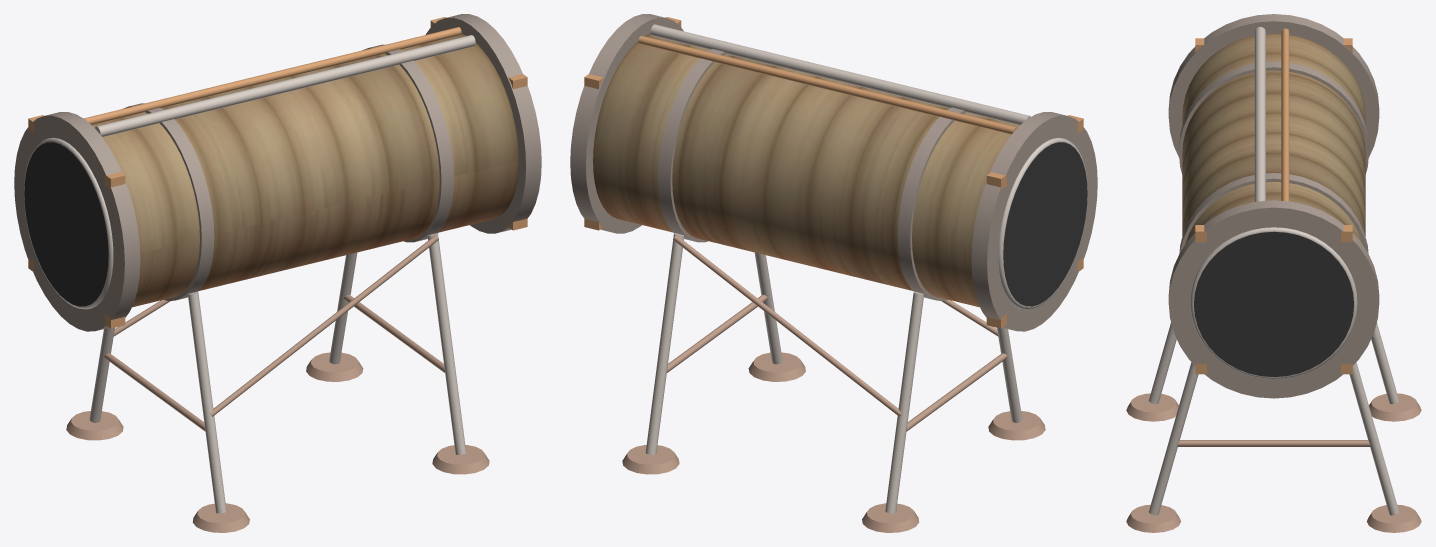
Rendered from W05_tunnel_straight.glb.
3 renders of one model, left to right at view 1: azimuth 30°, elevation 25°; view 2: azimuth 150°, elevation 25°; view 3: azimuth 270°, elevation 25°, orthographic. The views are drawn at different scales.
Visible parts, largest first — view 1: tube, docking_flange, opening, seal, footpad; view 2: tube, docking_flange, opening, seal, footpad; view 3: tube, docking_flange, opening, seal, footpad.
Boxes of the visible parts, x1,y1,x2,y2 form: tube: (92,33,518,307); docking_flange: (14,14,541,331); opening: (24,17,527,328); seal: (24,35,475,513); footpad: (66,235,489,532); tube: (593,33,1019,307); docking_flange: (570,14,1097,331); opening: (584,17,1087,328); seal: (645,24,1087,513); footpad: (622,235,1045,532); tube: (1182,33,1365,244); docking_flange: (1168,14,1379,398); opening: (1194,28,1353,376); seal: (1149,27,1398,515); footpad: (1126,393,1421,532).
Size of the model in its own units: 4.06 by 3.42 by 2.58.
Materials: 5 (1 with a texture image).
